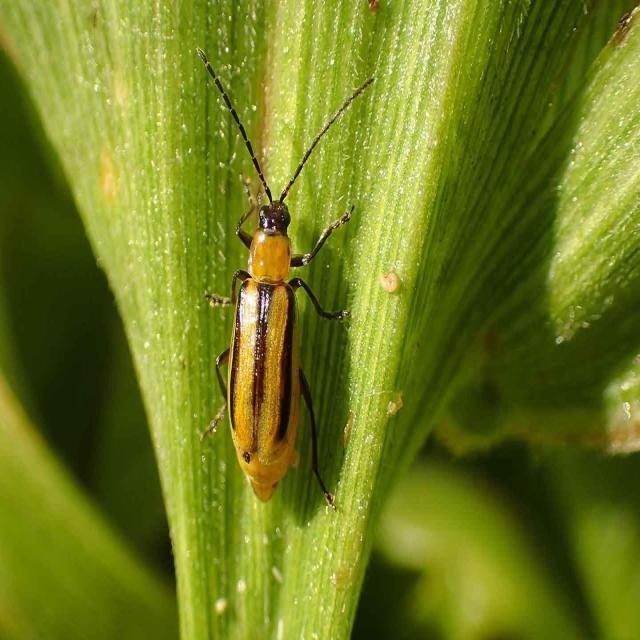trips: (197, 46, 376, 512)
